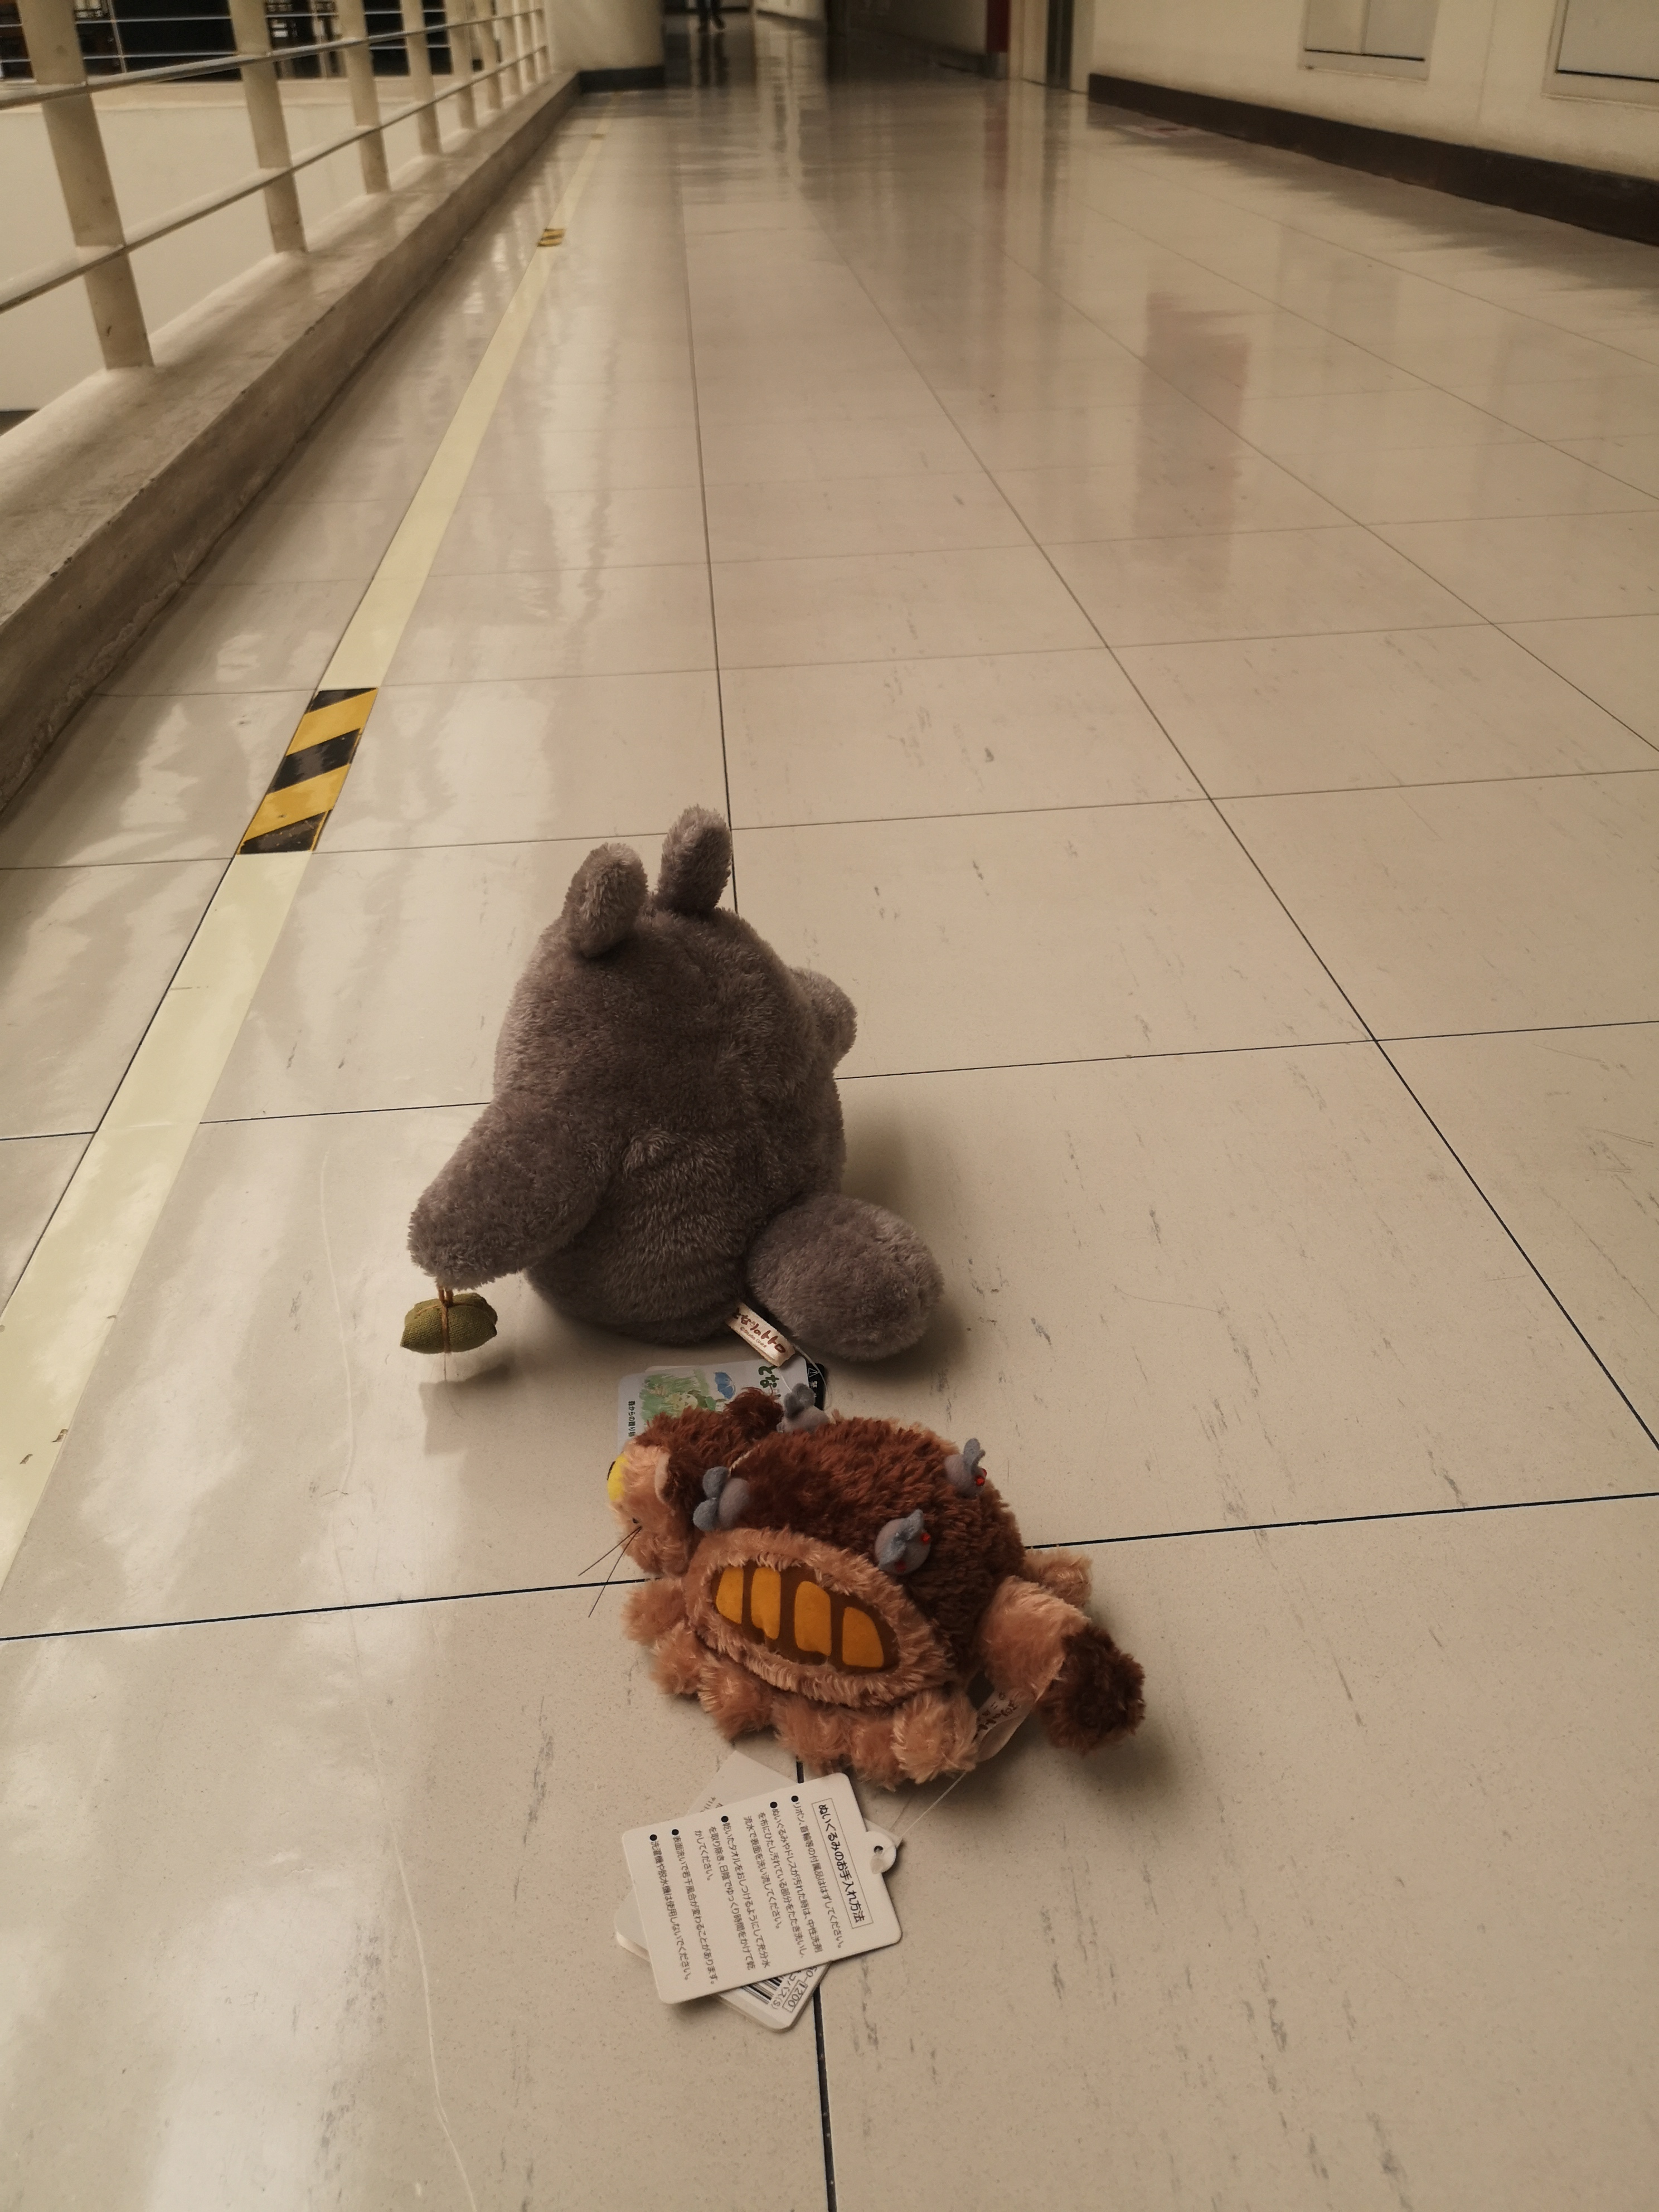nekobus: (575, 1352, 1154, 1784)
totoro: (390, 810, 974, 1390)
